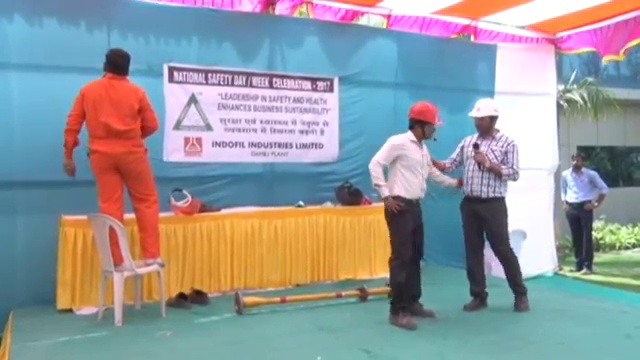helmet: (407, 100, 443, 125), (466, 96, 502, 121)
helmet_off: (103, 48, 131, 76), (568, 150, 585, 170)
helmet_on: (406, 100, 444, 142), (466, 96, 502, 136)
person: (61, 48, 168, 269), (365, 99, 463, 332), (434, 95, 532, 315), (558, 150, 609, 278)
